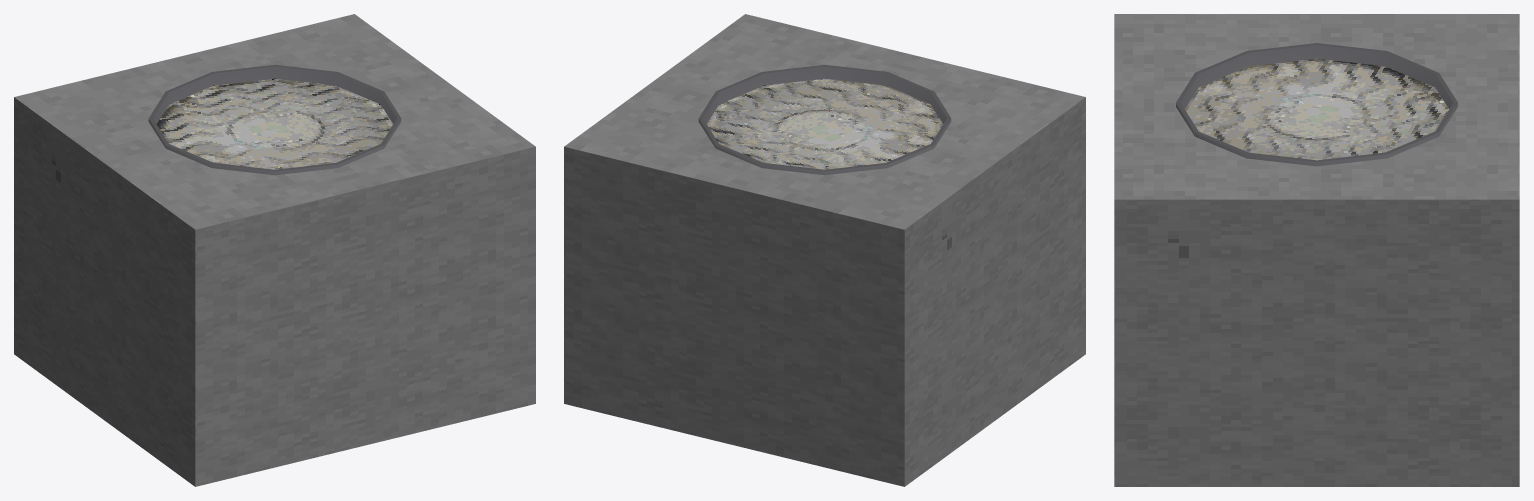
File: lab-ventilation-luk.glb
3 views of the same model, side by side, from view 1: azimuth 30°, elevation 25°; view 2: azimuth 150°, elevation 25°; view 3: azimuth 270°, elevation 25° (orthographic). The views are drawn at different scales.
Visible parts, largest first — view 1: Cube; view 2: Cube; view 3: Cube.
Boxes of the visible parts, box(x1,y1,x2,y2) form: Cube: box(14, 14, 535, 486); Cube: box(564, 14, 1085, 486); Cube: box(1114, 14, 1519, 486).
Size of the model in its own units: 3.12 by 2.28 by 2.87.
Materials: 2 (2 with a texture image).
